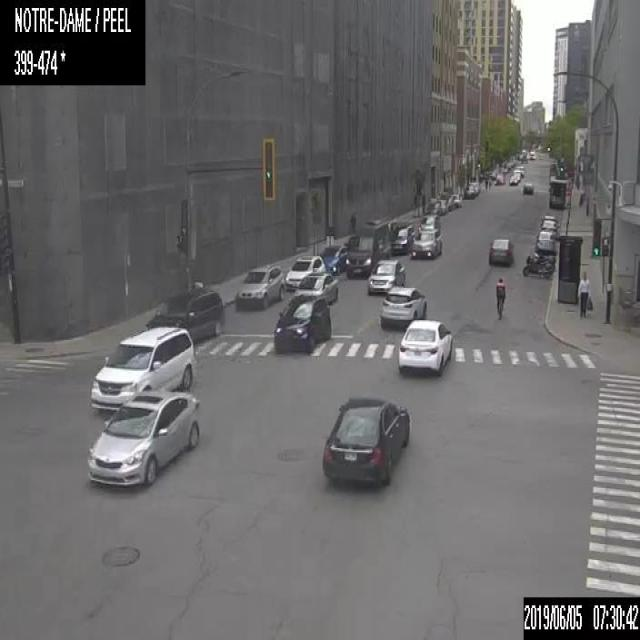cyclist: (494, 277, 506, 320)
pedestrian: (575, 271, 593, 319), (348, 212, 356, 232), (412, 192, 417, 216), (421, 190, 425, 214), (484, 177, 487, 190), (488, 178, 491, 190)
vehicle: (86, 389, 201, 485), (90, 326, 193, 408), (320, 393, 409, 484), (144, 287, 223, 343), (274, 296, 330, 352), (398, 318, 452, 374), (345, 218, 391, 278), (234, 264, 284, 308), (378, 286, 426, 327), (285, 255, 325, 290), (366, 259, 405, 294), (294, 271, 338, 302), (318, 244, 348, 275), (411, 230, 441, 258), (522, 252, 554, 278), (547, 177, 571, 208), (487, 235, 511, 265), (390, 223, 414, 251), (418, 216, 440, 235), (535, 230, 554, 250), (540, 220, 557, 237), (427, 202, 441, 215), (449, 193, 461, 207), (468, 180, 478, 196), (438, 198, 448, 213), (522, 182, 533, 195), (463, 185, 474, 198), (513, 165, 524, 177), (540, 213, 557, 220), (494, 173, 504, 184), (526, 148, 536, 159), (509, 173, 517, 184), (512, 171, 520, 181)
